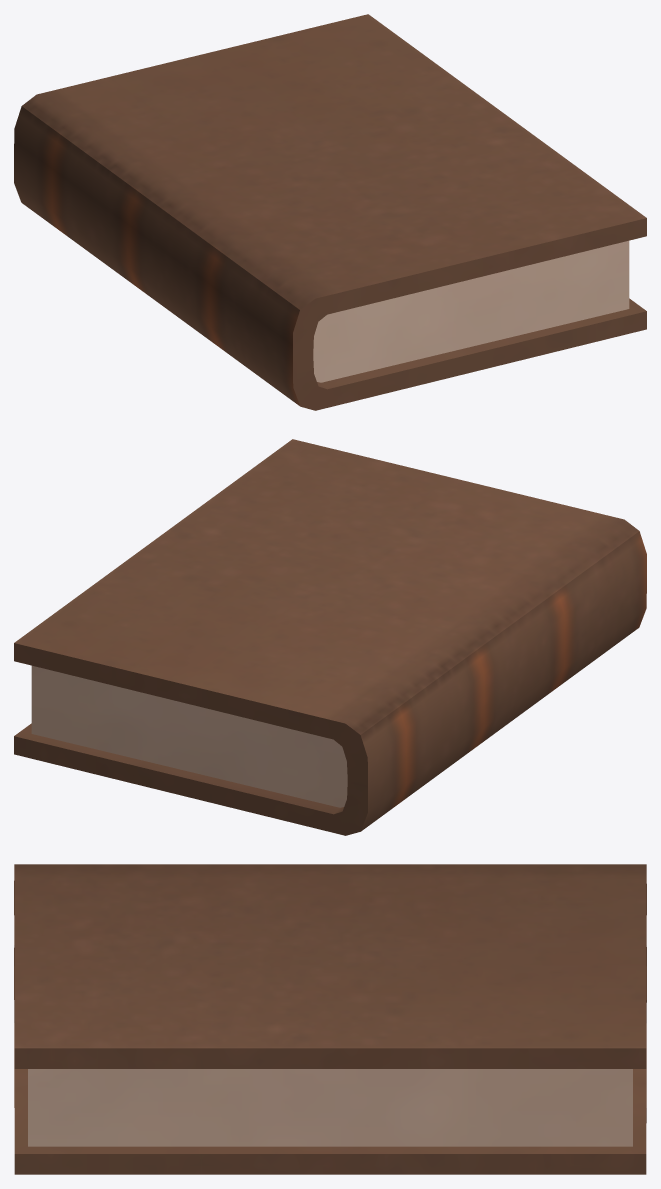
The model's file is SM_Book_04.fbx.
3 renders of one model, top to bottom at view 1: azimuth 30°, elevation 25°; view 2: azimuth 150°, elevation 25°; view 3: azimuth 270°, elevation 25°, orthographic. The views are drawn at different scales.
Parts seen in each view (by area): view 1: SM_Book_04; view 2: SM_Book_04; view 3: SM_Book_04.
Boxes of the visible parts, x1=… form: SM_Book_04: x1=14, y1=14, x2=646, y2=410; SM_Book_04: x1=14, y1=439, x2=646, y2=835; SM_Book_04: x1=14, y1=864, x2=646, y2=1174.
Bounding box in the file's own units: 15.17 × 4.59 × 20.71.
